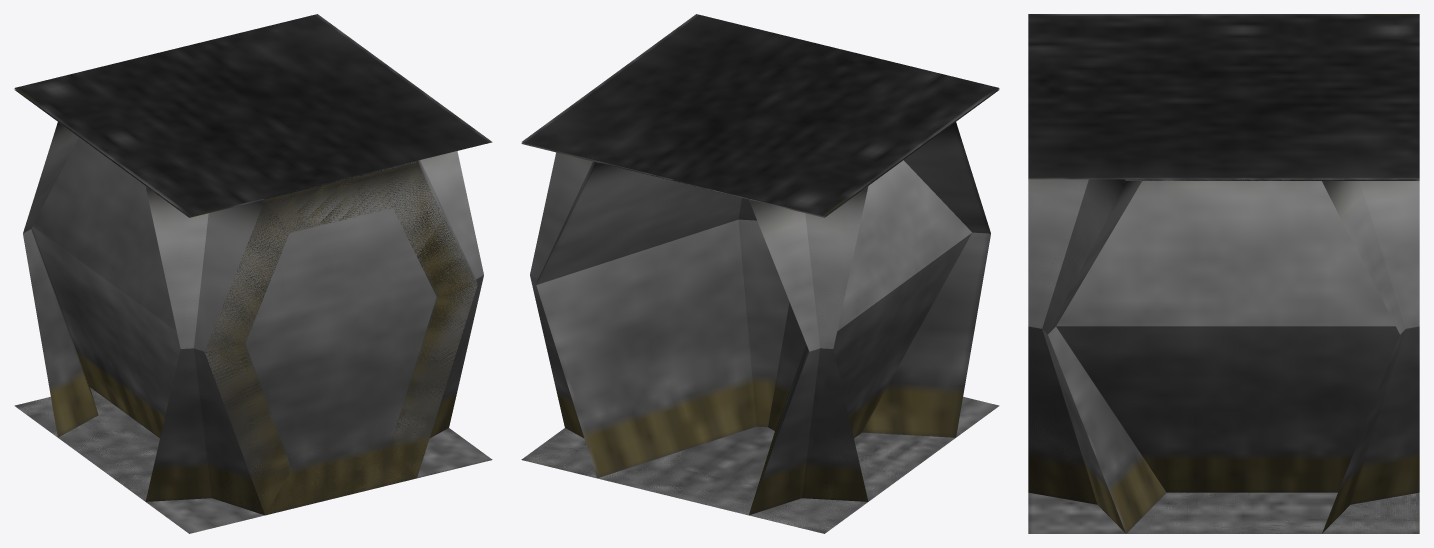
Rendered from FacilityPieces.fbx.
The picture shows the model from 3 angles, left to right: view 1: azimuth 30°, elevation 25°; view 2: azimuth 150°, elevation 25°; view 3: azimuth 270°, elevation 25°; orthographic projection. The views are drawn at different scales.
Parts seen in each view (by area): view 1: hallway_door, room_middle, hallway_cap, hallway_straight, hallway_cross, room_entrance_side, hallway_T, room_entrance, room_corner_inverse, room_side; view 2: hallway_elbow, room_middle, hallway_T, hallway_straight, room_corner_inverse, room_entrance, hallway_cross, room_corner, room_entrance_side, room_side; view 3: hallway_straight, room_middle, hallway_cross, hallway_T, room_entrance, room_corner, room_side, room_corner_inverse.
Boxes of the visible parts, box(x1,y1,x2,y2) form: hallway_door: box(205, 162, 477, 514); room_middle: box(14, 14, 492, 532); hallway_cap: box(204, 163, 477, 515); hallway_straight: box(31, 137, 416, 437); hallway_cross: box(60, 123, 483, 515); room_entrance_side: box(15, 96, 415, 514); hallway_T: box(23, 122, 149, 501); room_entrance: box(15, 151, 483, 497); room_corner_inverse: box(14, 89, 483, 533); room_side: box(20, 397, 159, 494); hallway_elbow: box(536, 122, 990, 501); room_middle: box(521, 14, 999, 532); hallway_T: box(530, 147, 920, 515); hallway_straight: box(598, 160, 972, 437); room_corner_inverse: box(521, 89, 999, 531); room_entrance: box(521, 428, 879, 533); hallway_cross: box(655, 426, 877, 486); room_corner: box(524, 147, 809, 512); room_entrance_side: box(597, 121, 955, 533); room_side: box(523, 432, 871, 530); hallway_straight: box(1056, 181, 1399, 492); room_middle: box(1028, 14, 1419, 533); hallway_cross: box(1028, 179, 1337, 533); hallway_T: box(1127, 180, 1419, 533); room_entrance: box(1028, 179, 1419, 533); room_corner: box(1048, 181, 1419, 533); room_side: box(1126, 179, 1419, 533); room_corner_inverse: box(1042, 179, 1419, 533).
Size of the model in its own units: 200 by 200 by 200.
